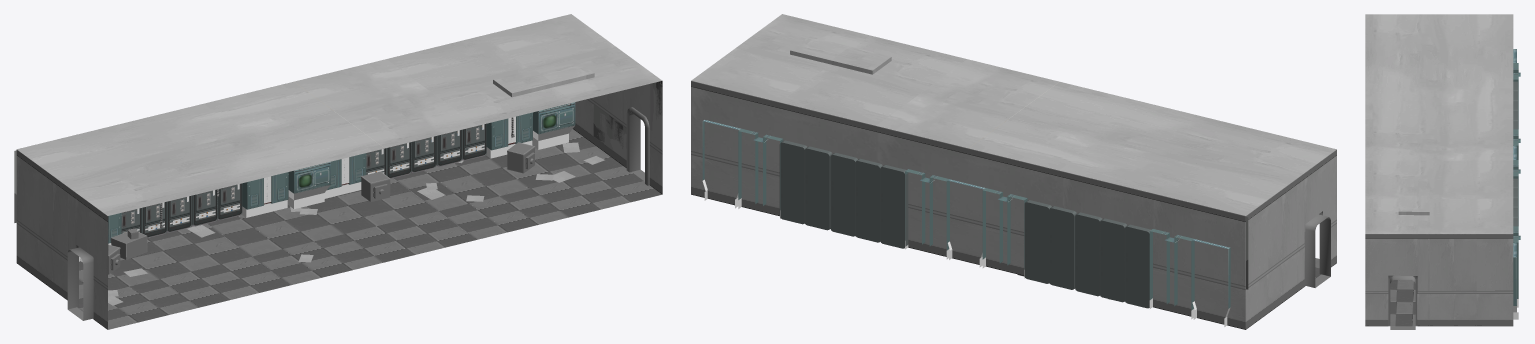
Rendered from MSH_QuestRobCo_L1_R3_optimized.fbx.
3 views of the same model, side by side, from view 1: azimuth 30°, elevation 25°; view 2: azimuth 150°, elevation 25°; view 3: azimuth 270°, elevation 25° (orthographic). The views are drawn at different scales.
Visible parts, largest first — view 1: lightmap10, lightmap9, lightmap11, lightmap4, lightmap0, lightmap1, MSH_QuestRobCo_L1_R3_Dirt_01_NB, MSH_QuestRobCo_L1_R3_Lights_01_NB; view 2: lightmap10, lightmap4, lightmap11, lightmap1; view 3: lightmap10, lightmap4, lightmap11, lightmap9, lightmap0, lightmap1.
Boxes of the visible parts, x1,y1,x2,y2 form: lightmap10: (17, 14, 662, 215); lightmap9: (77, 129, 661, 329); lightmap11: (79, 102, 575, 274); lightmap4: (16, 81, 662, 329); lightmap0: (76, 103, 649, 305); lightmap1: (67, 112, 644, 320); MSH_QuestRobCo_L1_R3_Dirt_01_NB: (14, 81, 662, 273); MSH_QuestRobCo_L1_R3_Lights_01_NB: (123, 116, 515, 232); lightmap10: (691, 14, 1336, 215); lightmap4: (691, 81, 1336, 329); lightmap11: (702, 120, 1230, 326); lightmap1: (1304, 214, 1330, 287); lightmap10: (1365, 14, 1513, 233); lightmap4: (1365, 234, 1513, 326); lightmap11: (1513, 49, 1520, 319); lightmap9: (1388, 280, 1417, 326); lightmap0: (1388, 275, 1417, 325); lightmap1: (1390, 275, 1415, 329).
Size of the model in its own units: 30.91 by 6.12 by 8.94.
5 materials, 4 textured.
